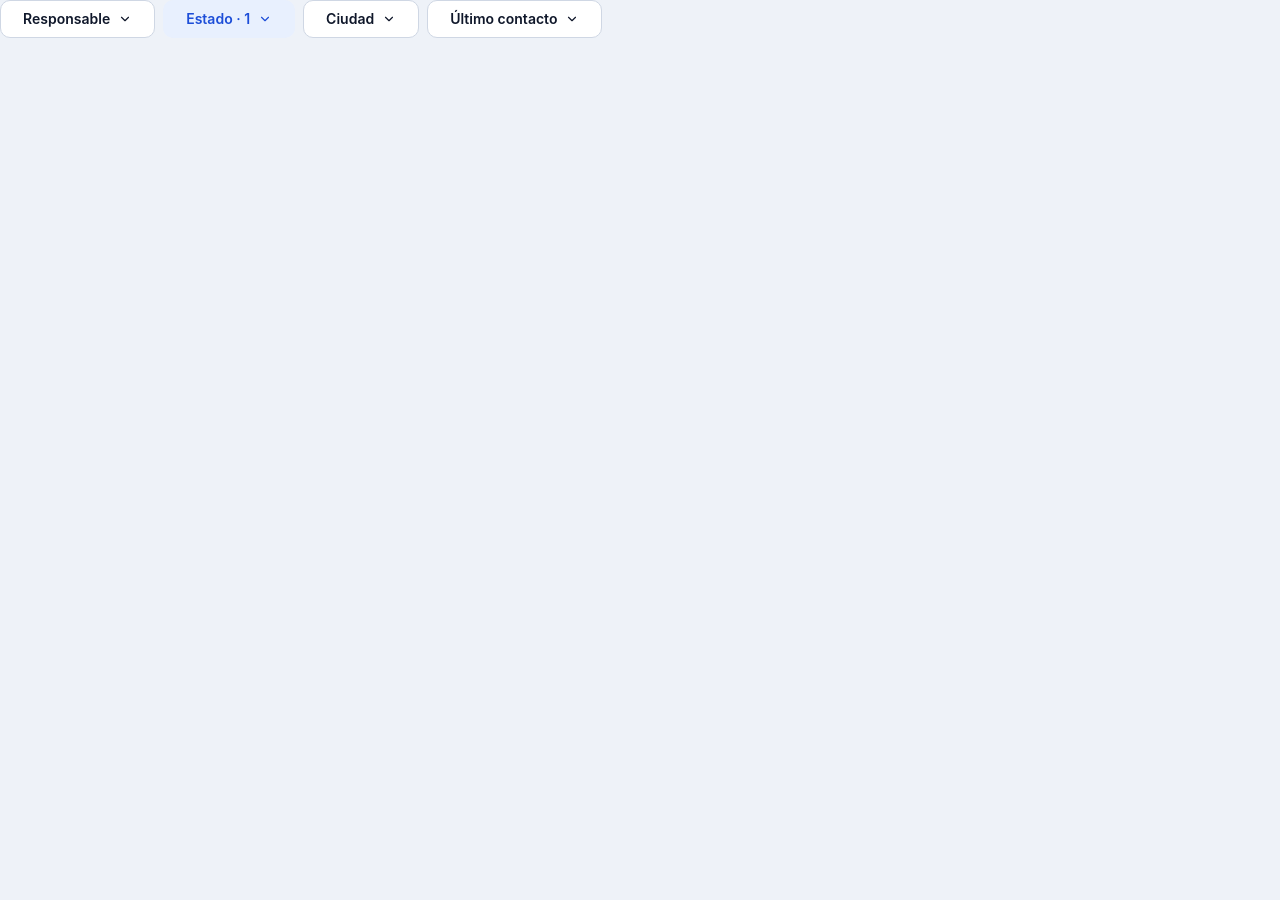
it: BusinessQuickFilters › preserves a foreign group for the same field and points to the builder
Click the button "Estado · 1" at [229, 19], box [163,0,295,38]
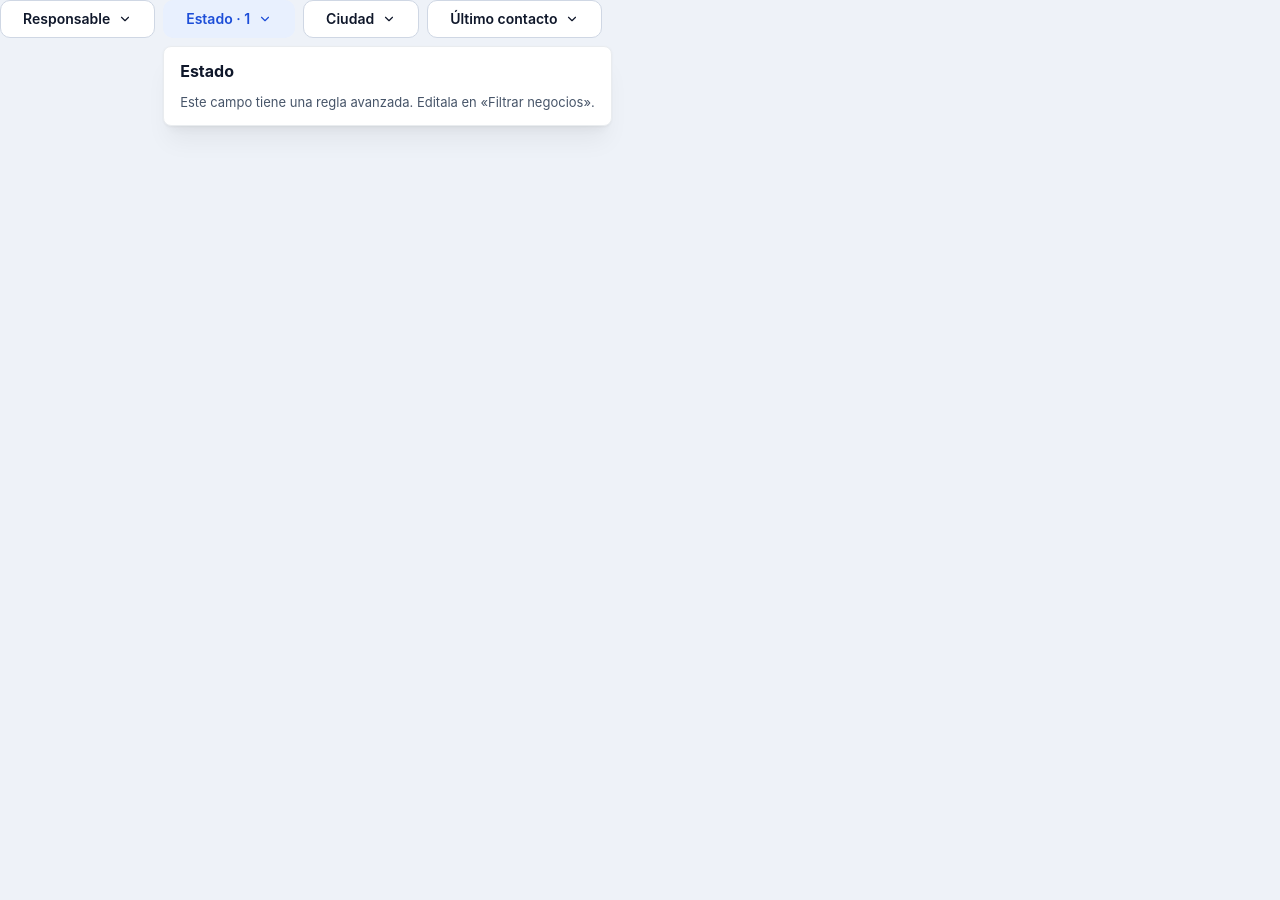
Expected: the text "regla avanzada" is shown, [180,94,488,110]
